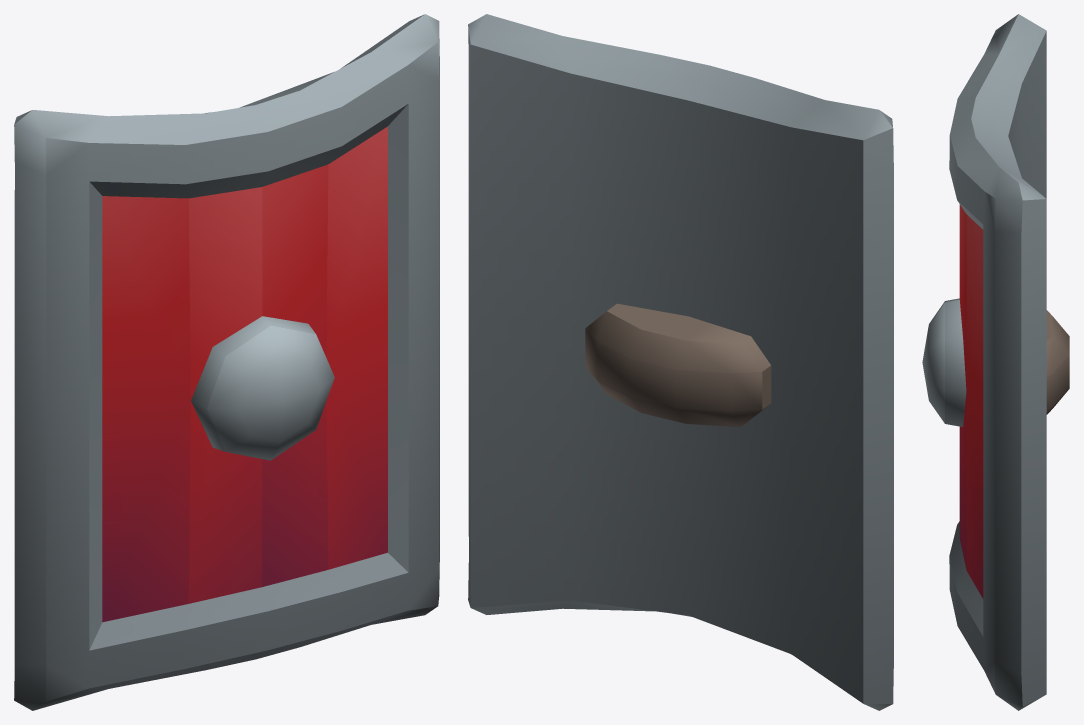
The picture shows the model from 3 angles, left to right: view 1: azimuth 30°, elevation 25°; view 2: azimuth 150°, elevation 25°; view 3: azimuth 270°, elevation 25°; orthographic projection. The views are drawn at different scales.
Parts seen in each view (by area): view 1: shield_square_color; view 2: shield_square_color; view 3: shield_square_color.
Boxes of the visible parts, left/top/right/bottom form: shield_square_color: left=14, top=14, right=439, bottom=710; shield_square_color: left=468, top=14, right=893, bottom=710; shield_square_color: left=922, top=14, right=1069, bottom=710.
Bounding box in the file's own units: 0.8826 × 1.19 × 0.3011.
1 material, 1 textured.
